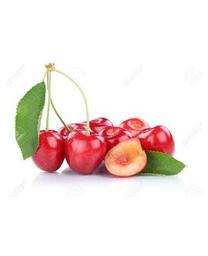cherry: (62, 131, 105, 173), (104, 137, 147, 177), (27, 128, 65, 172), (135, 125, 175, 164)
